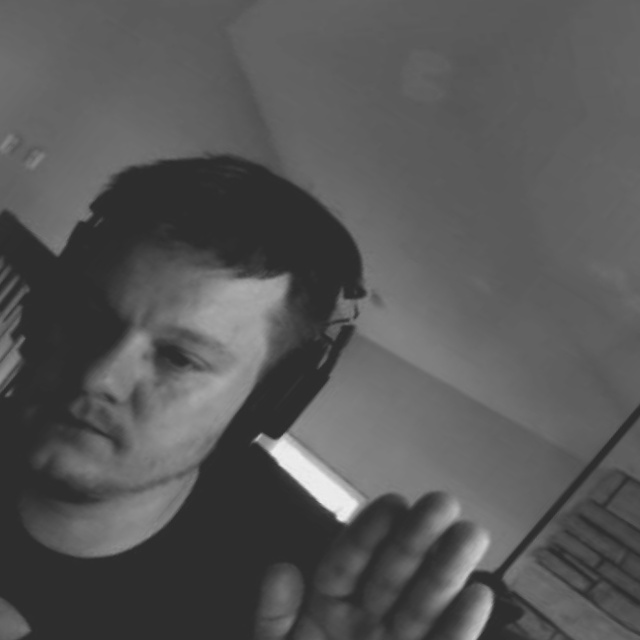Paper: (180, 412, 583, 640)
